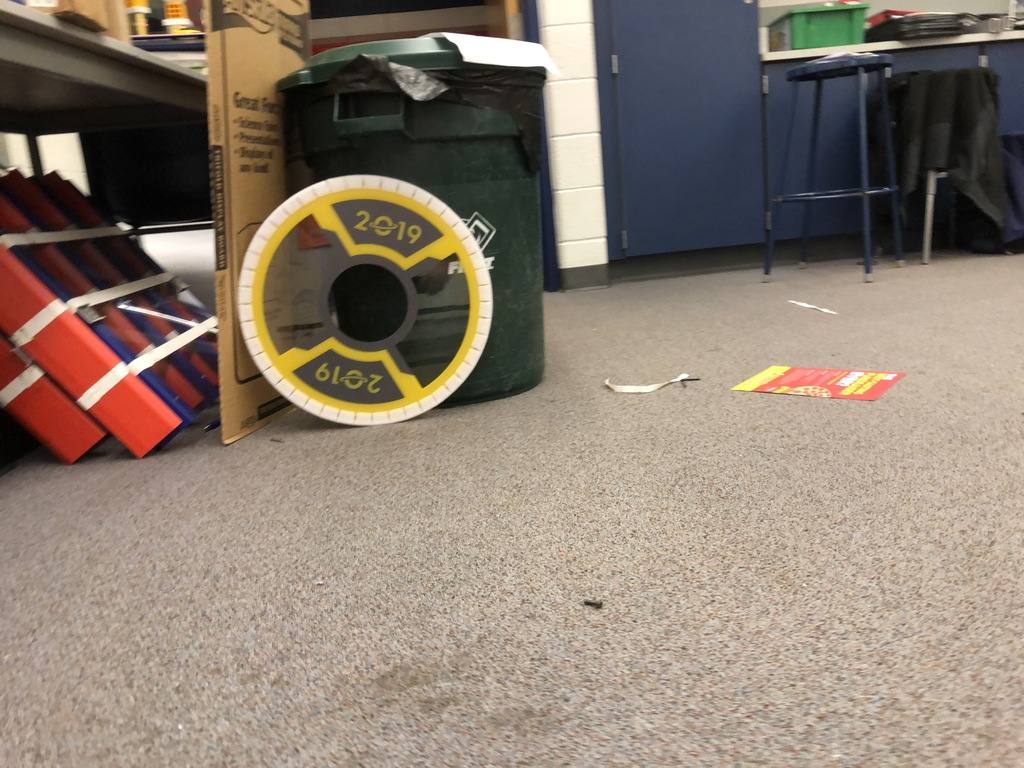hatch_panel: (230, 164, 507, 430)
